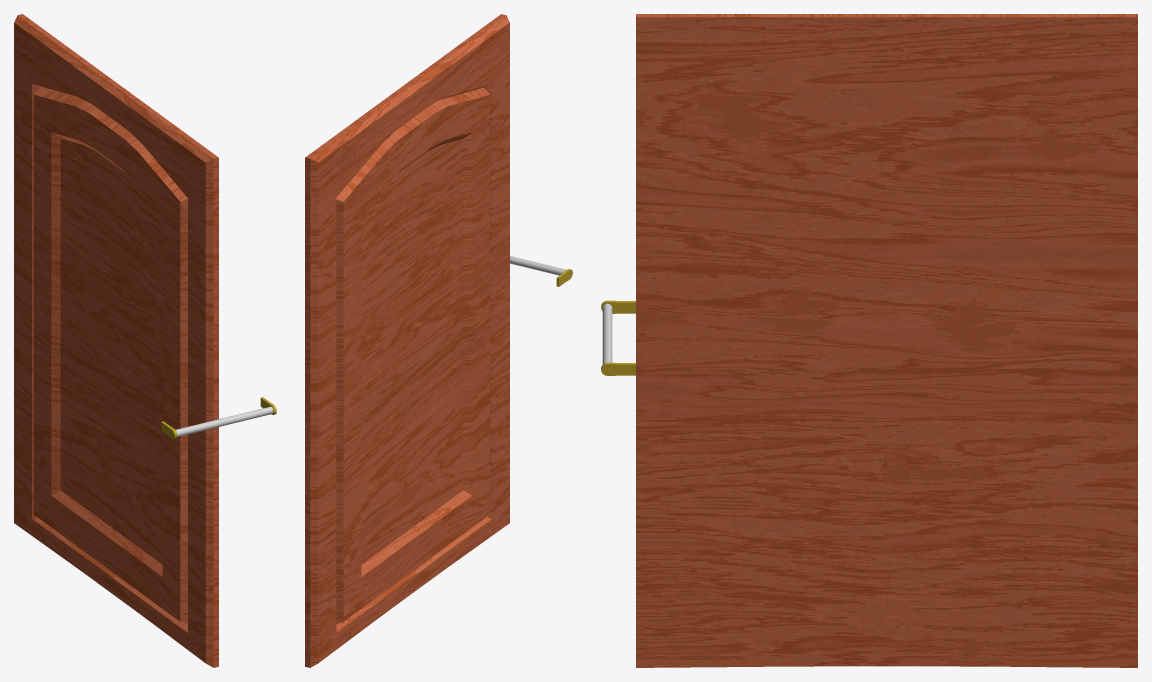
The model's file is Cabinet_4188f011.obj.
The picture shows the model from 3 angles, left to right: view 1: azimuth 30°, elevation 25°; view 2: azimuth 150°, elevation 25°; view 3: azimuth 270°, elevation 25°; orthographic projection. The views are drawn at different scales.
Visible parts, largest first — view 1: Mesh_01_f570d121, handle_2_178mm_01_fb6a49c3; view 2: Mesh_01_f570d121, handle_2_178mm_01_fb6a49c3; view 3: Mesh_01_f570d121, handle_2_178mm_01_fb6a49c3.
Boxes of the visible parts, x1,y1,x2,y2 form: Mesh_01_f570d121: (14,14,218,667); handle_2_178mm_01_fb6a49c3: (161,397,276,439); Mesh_01_f570d121: (305,14,509,667); handle_2_178mm_01_fb6a49c3: (510,256,572,286); Mesh_01_f570d121: (636,14,1137,667); handle_2_178mm_01_fb6a49c3: (601,300,635,375).
Size of the model in its own units: 0.178 by 0.848 by 0.6338.
